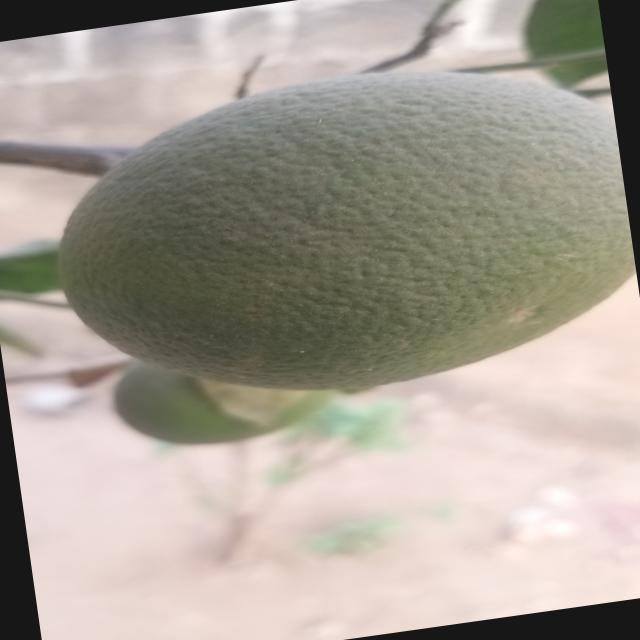agrume: (51, 42, 640, 425)
